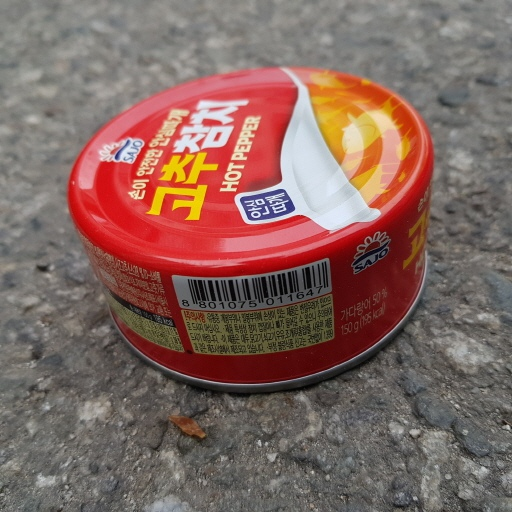Metal_1: (65, 70, 434, 394)
